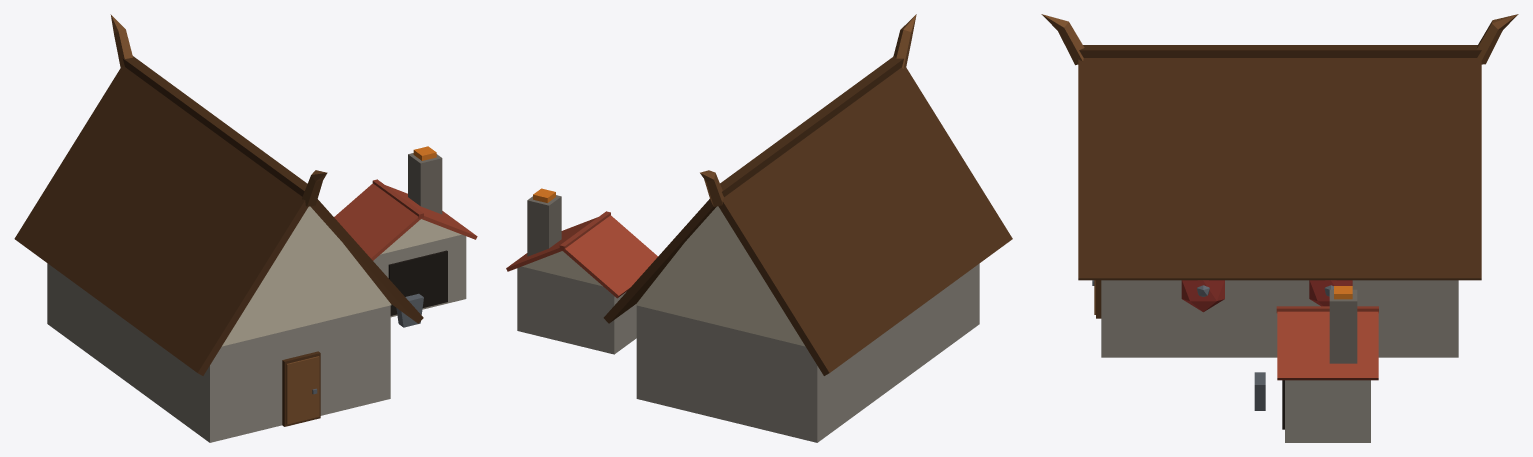
File: dwarf_hall_broken.glb
3 views of the same model, side by side, from view 1: azimuth 30°, elevation 25°; view 2: azimuth 150°, elevation 25°; view 3: azimuth 270°, elevation 25° (orthographic). The views are drawn at different scales.
Visible parts, largest first — view 1: dwarf_hall_piece1, dwarf_hall_piece0, dwarf_hall_piece13, dwarf_hall_piece12, dwarf_hall_piece9, dwarf_hall_piece4, dwarf_hall_piece10, dwarf_hall_piece7, dwarf_hall_piece6, dwarf_hall_piece3, dwarf_hall_piece5, dwarf_hall_piece8; view 2: dwarf_hall_piece1, dwarf_hall_piece3, dwarf_hall_piece13, dwarf_hall_piece9, dwarf_hall_piece12, dwarf_hall_piece2, dwarf_hall_piece4, dwarf_hall_piece8, dwarf_hall_piece6, dwarf_hall_piece0, dwarf_hall_piece5, dwarf_hall_piece11; view 3: dwarf_hall_piece7, dwarf_hall_piece6, dwarf_hall_piece8, dwarf_hall_piece12, dwarf_hall_piece2, dwarf_hall_piece3, dwarf_hall_piece13, dwarf_hall_piece0, dwarf_hall_piece10, dwarf_hall_piece1, dwarf_hall_piece9, dwarf_hall_piece5 (+1 smaller).
Boxes of the visible parts, bbox=[...] form: dwarf_hall_piece1: bbox=[45, 94, 213, 359]; dwarf_hall_piece0: bbox=[176, 214, 366, 442]; dwarf_hall_piece13: bbox=[155, 150, 330, 372]; dwarf_hall_piece12: bbox=[350, 146, 477, 327]; dwarf_hall_piece9: bbox=[14, 14, 159, 261]; dwarf_hall_piece4: bbox=[103, 214, 197, 419]; dwarf_hall_piece10: bbox=[266, 251, 372, 428]; dwarf_hall_piece7: bbox=[353, 261, 423, 407]; dwarf_hall_piece6: bbox=[177, 128, 260, 261]; dwarf_hall_piece3: bbox=[47, 75, 184, 300]; dwarf_hall_piece5: bbox=[96, 116, 231, 364]; dwarf_hall_piece8: bbox=[334, 203, 390, 279]; dwarf_hall_piece1: bbox=[705, 127, 938, 442]; dwarf_hall_piece3: bbox=[622, 151, 859, 419]; dwarf_hall_piece13: bbox=[840, 14, 1012, 269]; dwarf_hall_piece9: bbox=[694, 167, 860, 375]; dwarf_hall_piece12: bbox=[506, 188, 638, 347]; dwarf_hall_piece2: bbox=[618, 128, 795, 427]; dwarf_hall_piece4: bbox=[869, 197, 969, 401]; dwarf_hall_piece8: bbox=[587, 240, 657, 399]; dwarf_hall_piece6: bbox=[811, 95, 917, 200]; dwarf_hall_piece0: bbox=[946, 263, 979, 346]; dwarf_hall_piece5: bbox=[795, 116, 891, 407]; dwarf_hall_piece11: bbox=[636, 289, 681, 409]; dwarf_hall_piece7: bbox=[1078, 174, 1281, 373]; dwarf_hall_piece6: bbox=[1197, 45, 1422, 235]; dwarf_hall_piece8: bbox=[1240, 204, 1481, 357]; dwarf_hall_piece12: bbox=[1254, 286, 1378, 442]; dwarf_hall_piece2: bbox=[1288, 49, 1481, 290]; dwarf_hall_piece3: bbox=[1363, 45, 1481, 240]; dwarf_hall_piece13: bbox=[1041, 14, 1199, 101]; dwarf_hall_piece0: bbox=[1078, 89, 1200, 162]; dwarf_hall_piece10: bbox=[1078, 128, 1203, 318]; dwarf_hall_piece1: bbox=[1287, 45, 1416, 133]; dwarf_hall_piece9: bbox=[1408, 14, 1518, 92]; dwarf_hall_piece5: bbox=[1255, 45, 1298, 80].
Bounding box in the file's own units: 5.35 × 3.7 × 5.42.
